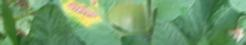Tomato Early blight leaf: (41, 0, 131, 45)
